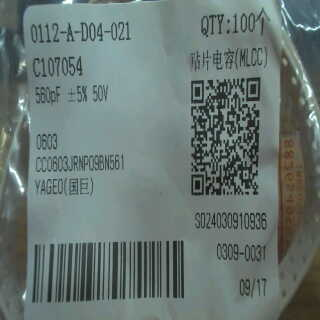560pF: (32, 82, 64, 108)
